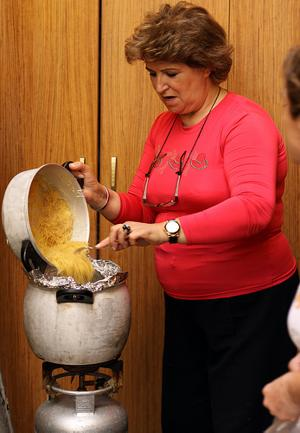person: (67, 5, 300, 433)
